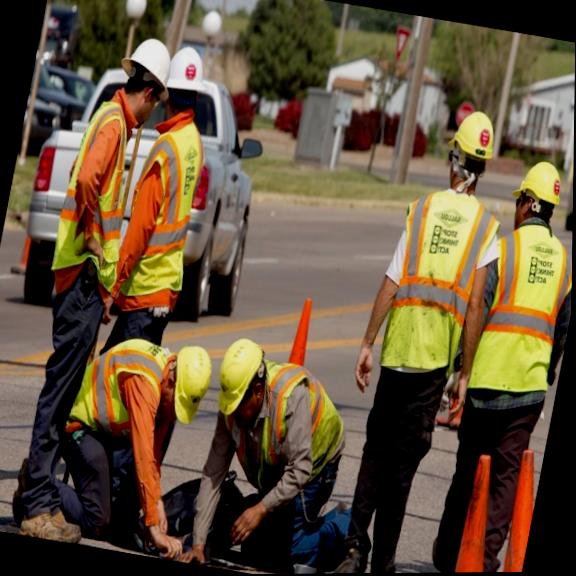safety_vest: (369, 179, 493, 393), (465, 214, 573, 414), (123, 114, 212, 317), (49, 100, 138, 288), (244, 371, 347, 495), (70, 326, 177, 438)
